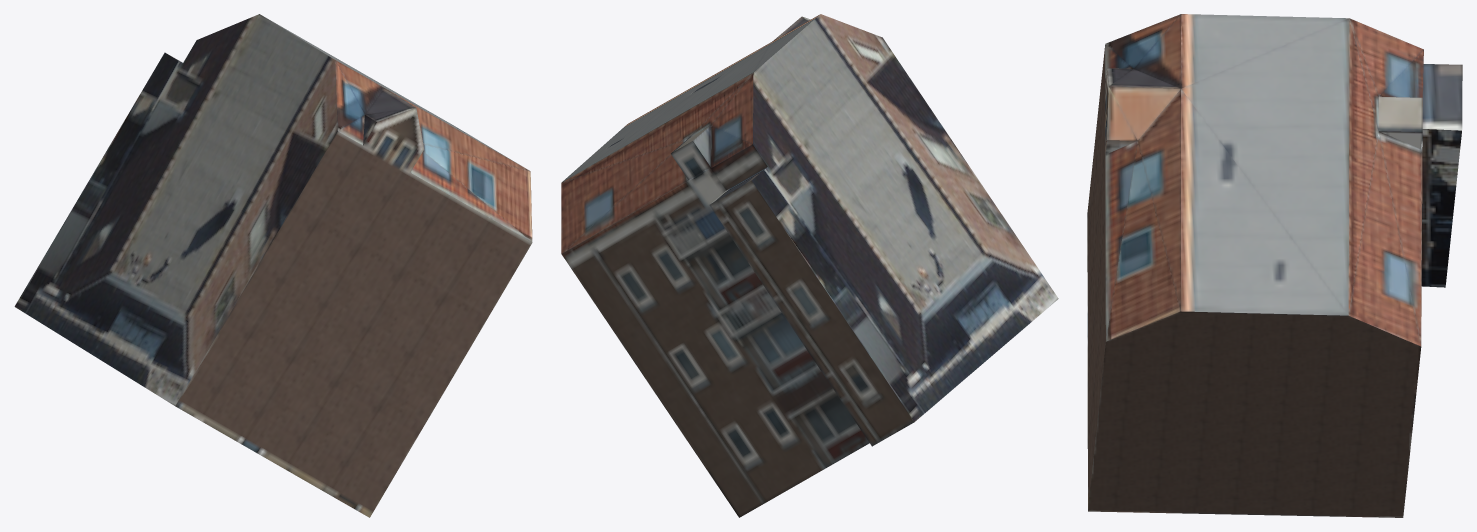
3 renders of one model, left to right at view 1: azimuth 30°, elevation 25°; view 2: azimuth 150°, elevation 25°; view 3: azimuth 270°, elevation 25°, orthographic. The views are drawn at different scales.
Parts seen in each view (by area): view 1: BAG_0599100000688681 (×4); view 2: BAG_0599100000688681 (×4); view 3: BAG_0599100000688681 (×5).
Boxes of the visible parts, x1=… form: BAG_0599100000688681 (×4): x1=14, y1=14, x2=532, y2=517; BAG_0599100000688681 (×4): x1=561, y1=14, x2=1058, y2=517; BAG_0599100000688681 (×5): x1=1087, y1=14, x2=1462, y2=517.
Bounding box in the file's own units: 15.75 × 16.3 × 10.84.
5 materials, 5 textured.
